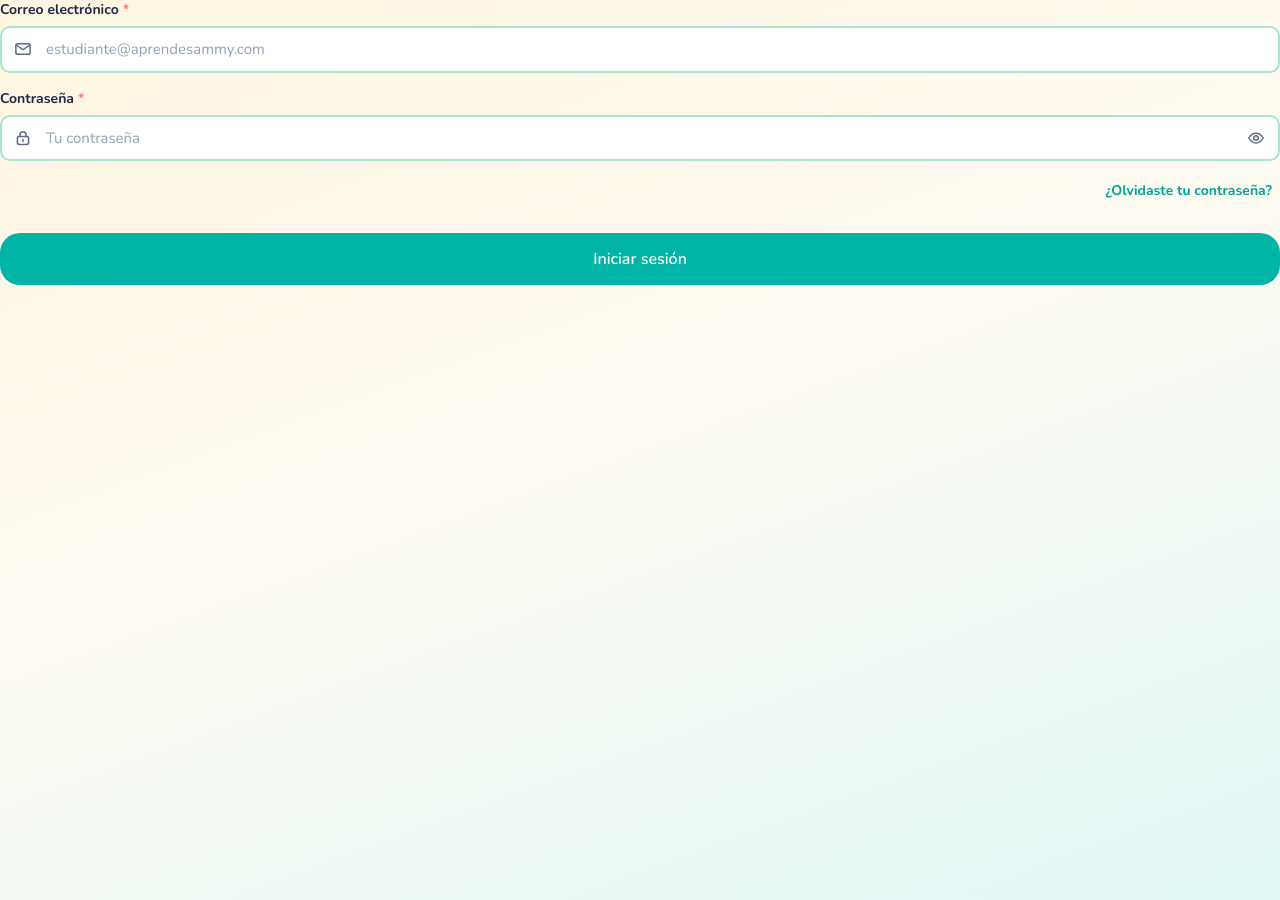
Test: LoginForm — envío › muestra el mensaje de credenciales inválidas del servidor
In the field labelled "Correo electrónico*": (640, 49) [0, 26, 1279, 72], type "ana@sammy.cl"
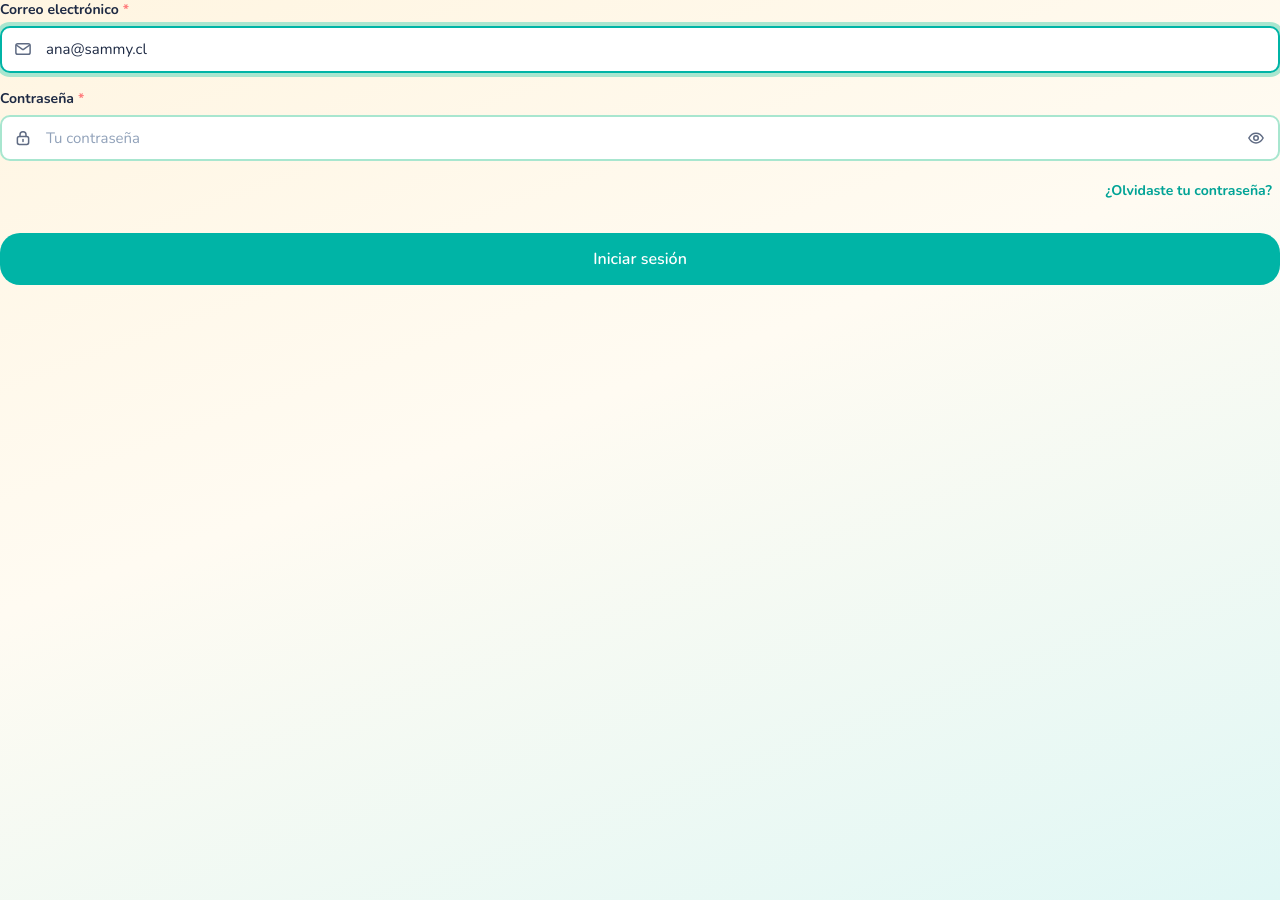
In the password field labelled "Contraseña*": (640, 138) [0, 114, 1279, 161], type "clave-erronea-1"
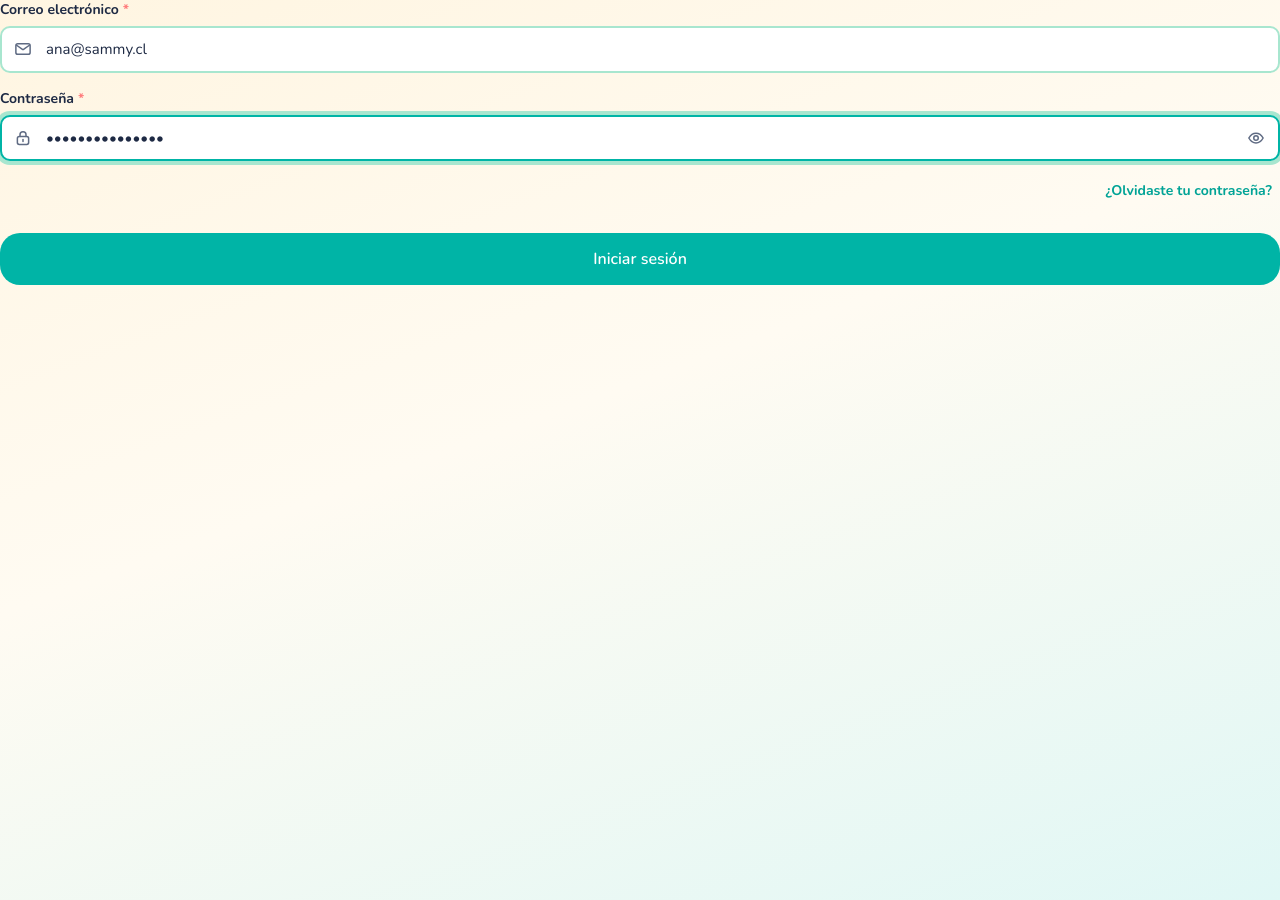
Click the button "Iniciar sesión": click(640, 259) [0, 233, 1279, 285]
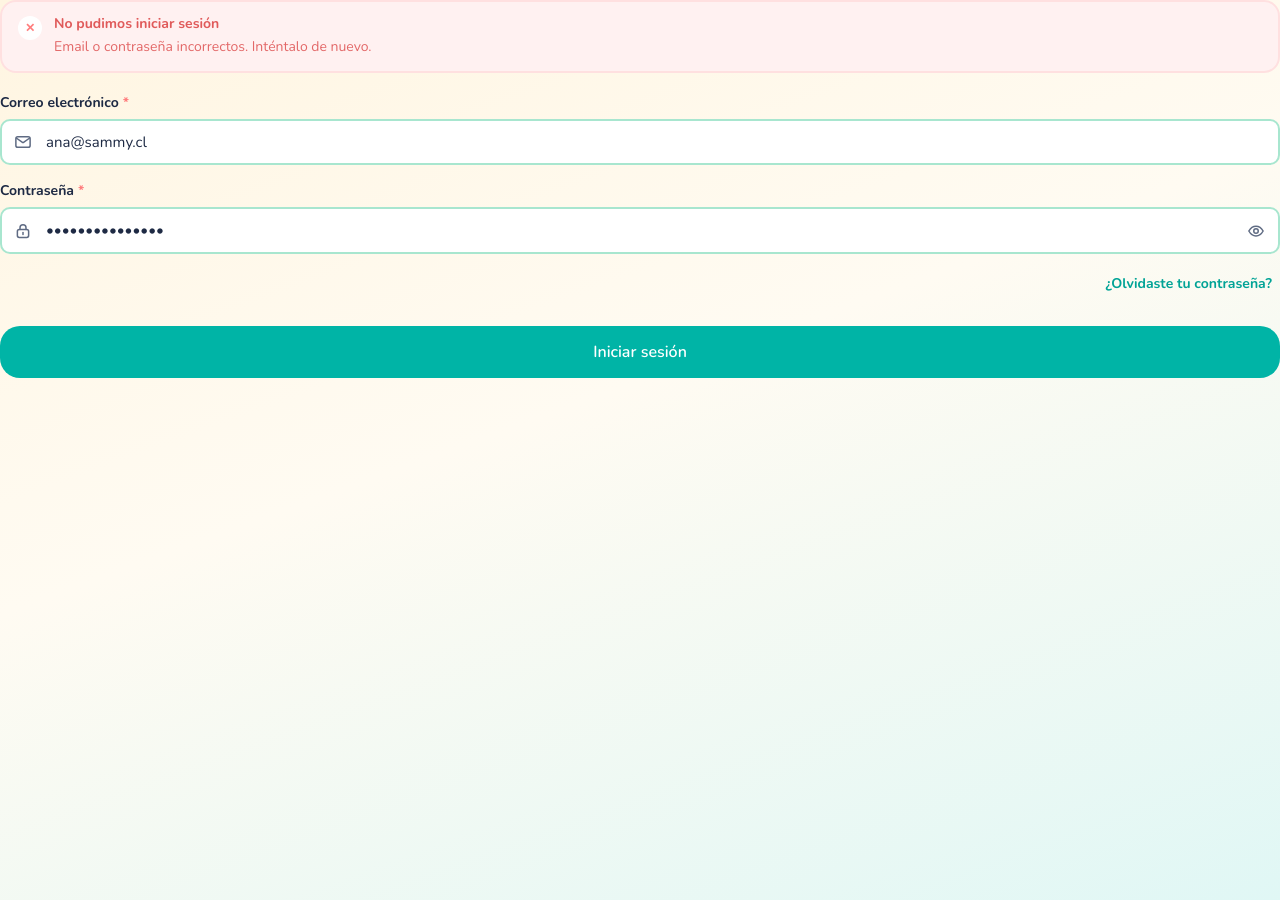
Check: the message shows "Email o contraseña incorrectos.", box [54, 37, 372, 56]
